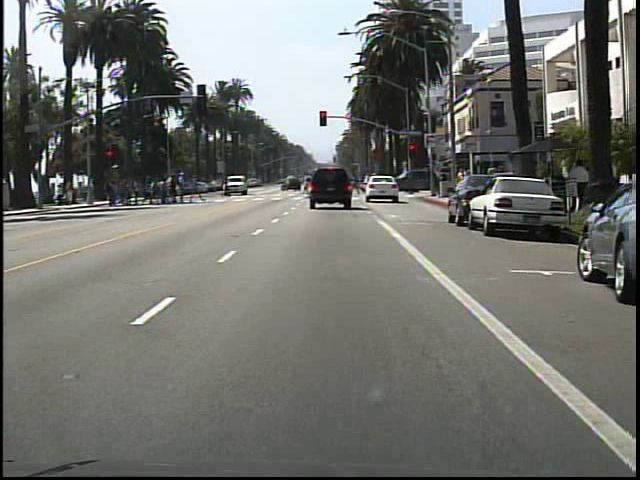person: (563, 158, 592, 218), (216, 173, 235, 201)
